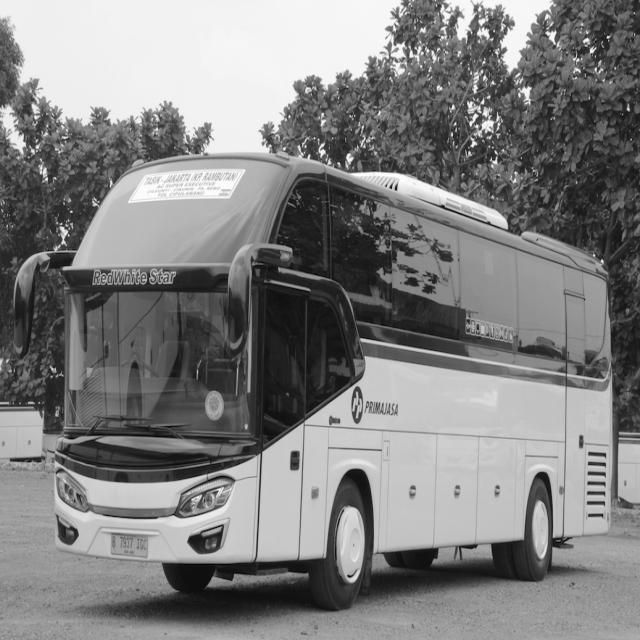Bus: (13, 153, 613, 609)
